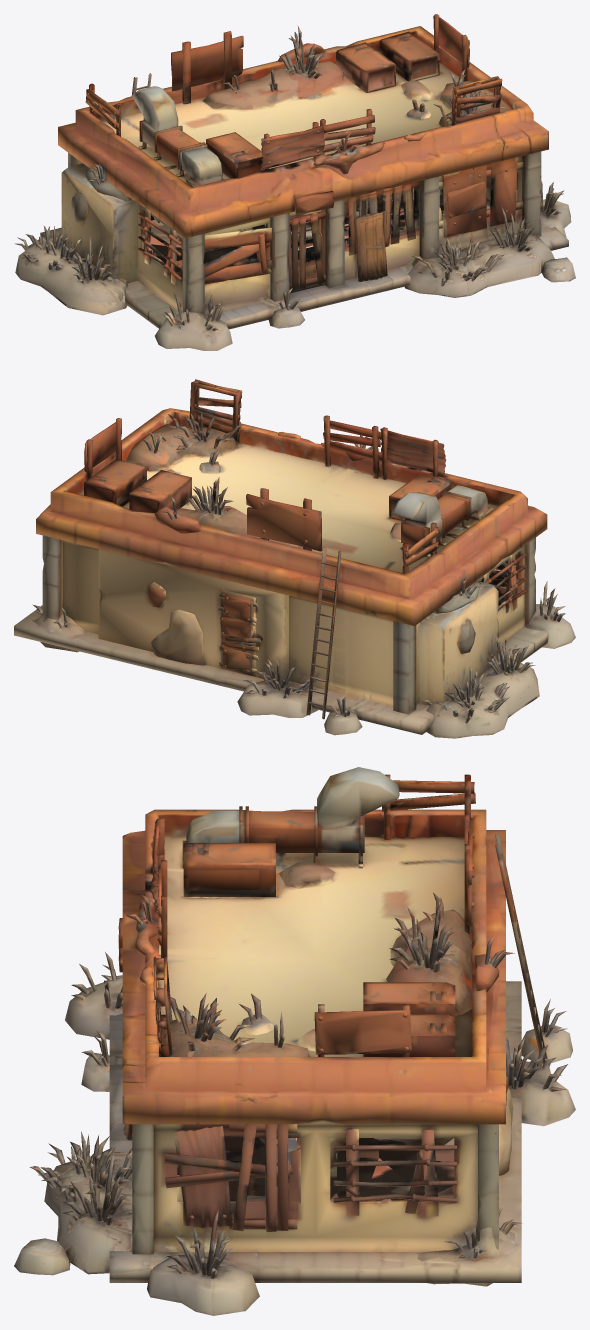
Rendered from house_2.fbx.
3 views of the same model, one above another, from view 1: azimuth 30°, elevation 25°; view 2: azimuth 150°, elevation 25°; view 3: azimuth 270°, elevation 25° (orthographic). The views are drawn at different scales.
Parts seen in each view (by area): view 1: input; view 2: input; view 3: input.
Part boxes in pixels (bbox=[...]): input: bbox=[14, 14, 575, 350]; input: bbox=[14, 379, 575, 738]; input: bbox=[14, 767, 575, 1315].
Size of the model in its own units: 200 by 73.86 by 135.
1 material, 1 textured.
